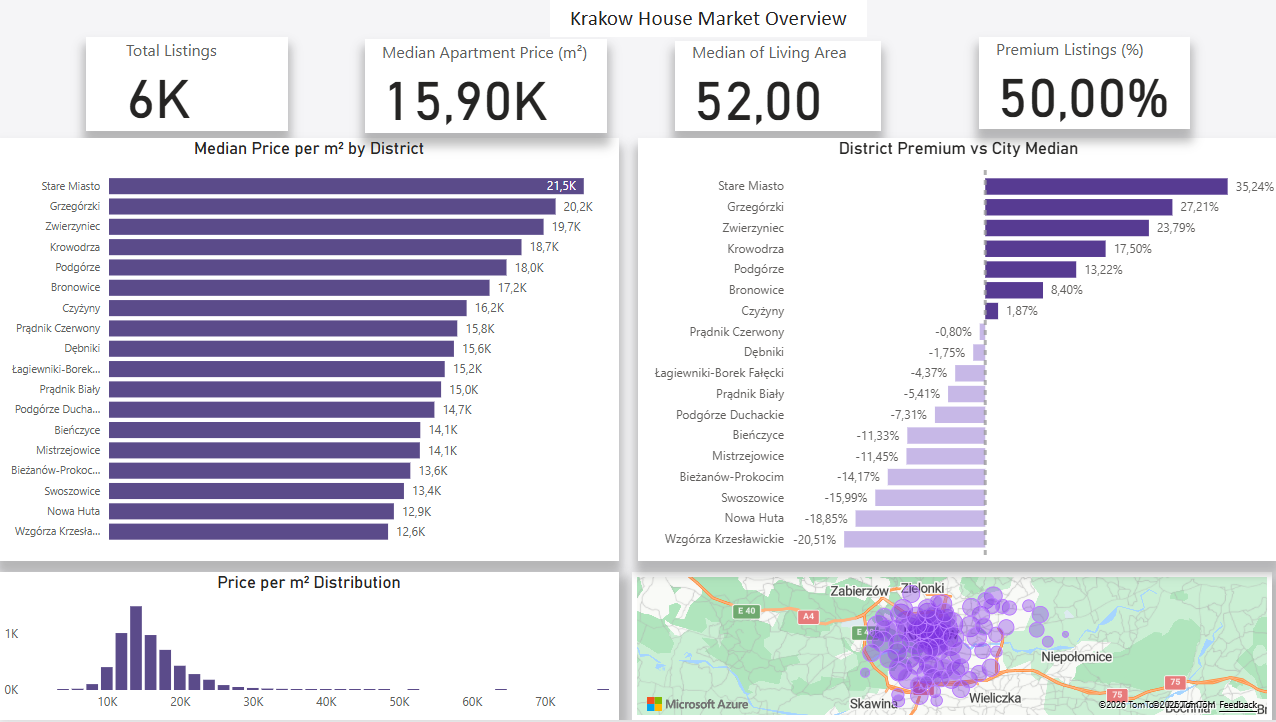

What the dashboard file says about the page in this screenshot:
{"tool":"powerbi","page":{"name":"Page 1","canvas":[1280,720],"ordinal":0},"visuals":[{"type":"cardVisual","fields":{"Data":["Sheet1.Total Listings"]},"box":[87.2,37.1,201.5,94.2],"z":0},{"type":"barChart","title":"Median Price per m² by District","fields":{"Category":["Sheet1.District"],"Y":["Median(Sheet1.PricePerM2)"]},"box":[0,138.3,620.5,423],"z":1000},{"type":"clusteredColumnChart","title":"Price per m² Distribution","fields":{"Category":["Sheet1.PricePerM2_bin"],"Y":["CountNonNull(Sheet1.Price)"]},"box":[0,572.3,620.5,147.3],"z":2000},{"type":"cardVisual","fields":{"Data":["Median(Sheet1.PricePerM2)"]},"box":[366.4,39,241.2,93.7],"z":3000},{"type":"cardVisual","fields":{"Data":["Median(Sheet1.LivingArea)"]},"box":[675.6,41.1,206.5,90.2],"z":4000},{"type":"azureMap","fields":{"Y":["Sheet1.Latitude"],"X":["Sheet1.Longitude"],"Size":["Median(Sheet1.PricePerM2)"]},"box":[633.5,572.3,639.5,147.3],"z":5000},{"type":"barChart","title":"District Premium vs City Median","fields":{"Category":["Sheet1.District"],"Y":["Sheet1.Price Index vs City"]},"box":[639.5,138.3,640.5,423],"z":6000},{"type":"cardVisual","title":"Listings Above City Median","fields":{"Data":["Sheet1.Premium Listings %"]},"box":[980.3,37.1,210.5,92.2],"z":7000},{"type":"textbox","box":[551.3,0,316.7,37.1],"z":8000}]}

Visuals, with their boxes in screenshot pixels (x1, y1, x2, y2), scaled from the page's 1280x720 canvas onto the 1276x722 screenshot:
cardVisual - Sheet1.Total Listings: locate(87, 37, 288, 132)
"Median Price per m² by District" barChart: locate(0, 139, 619, 563)
"Price per m² Distribution" clusteredColumnChart: locate(0, 574, 619, 721)
cardVisual - Median(Sheet1.PricePerM2): locate(365, 39, 606, 133)
cardVisual - Median(Sheet1.LivingArea): locate(673, 41, 879, 132)
azureMap - Sheet1.Latitude x Sheet1.Longitude: locate(632, 574, 1269, 721)
"District Premium vs City Median" barChart: locate(638, 139, 1275, 563)
"Listings Above City Median" cardVisual: locate(977, 37, 1187, 130)
textbox: locate(550, 0, 865, 37)
